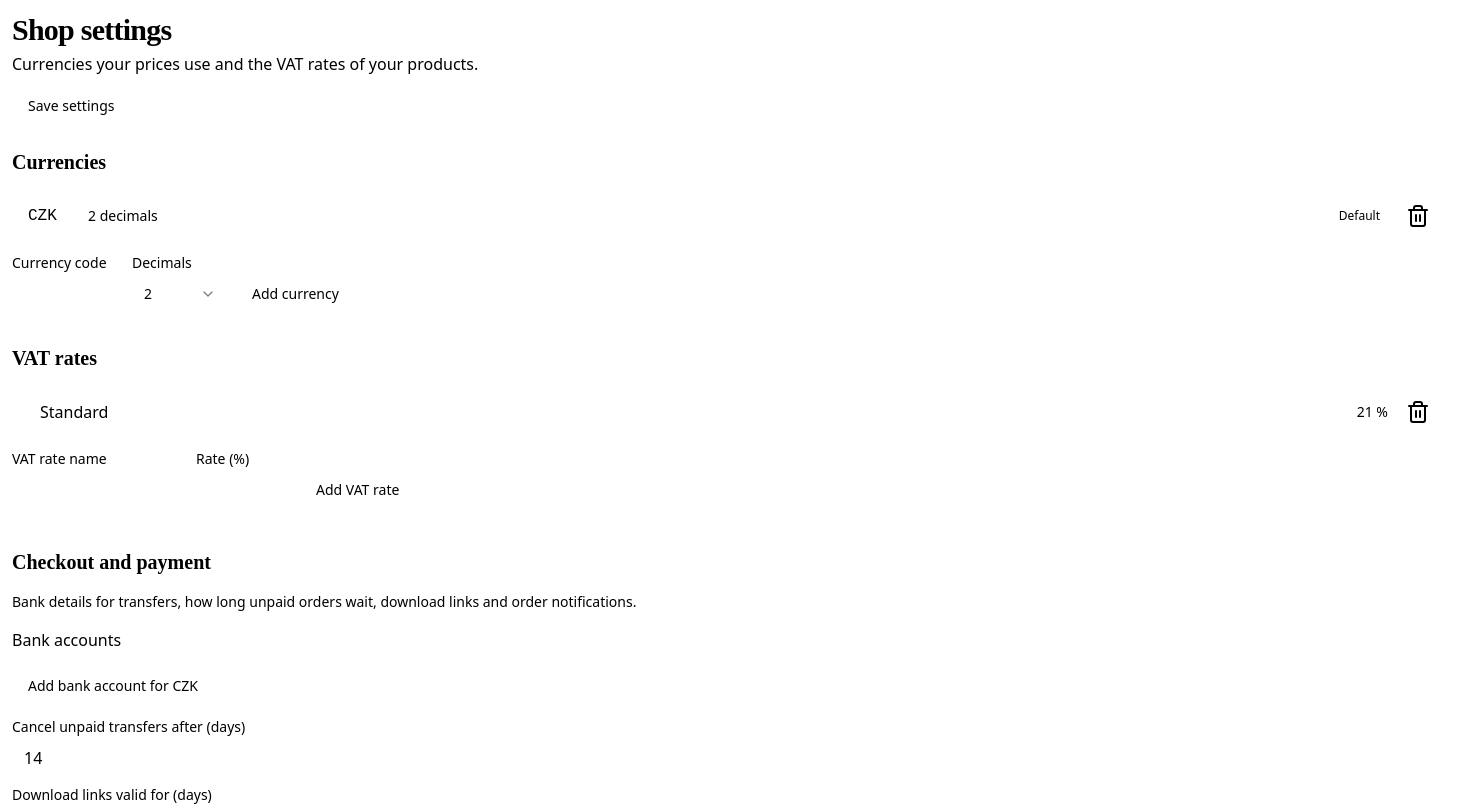
shows the server reason when a currency in use cannot be removed
Step 1. Click the button named "Remove CZK" → {"x": 1418, "y": 216}, box x1=1400 y1=198 x2=1436 y2=234
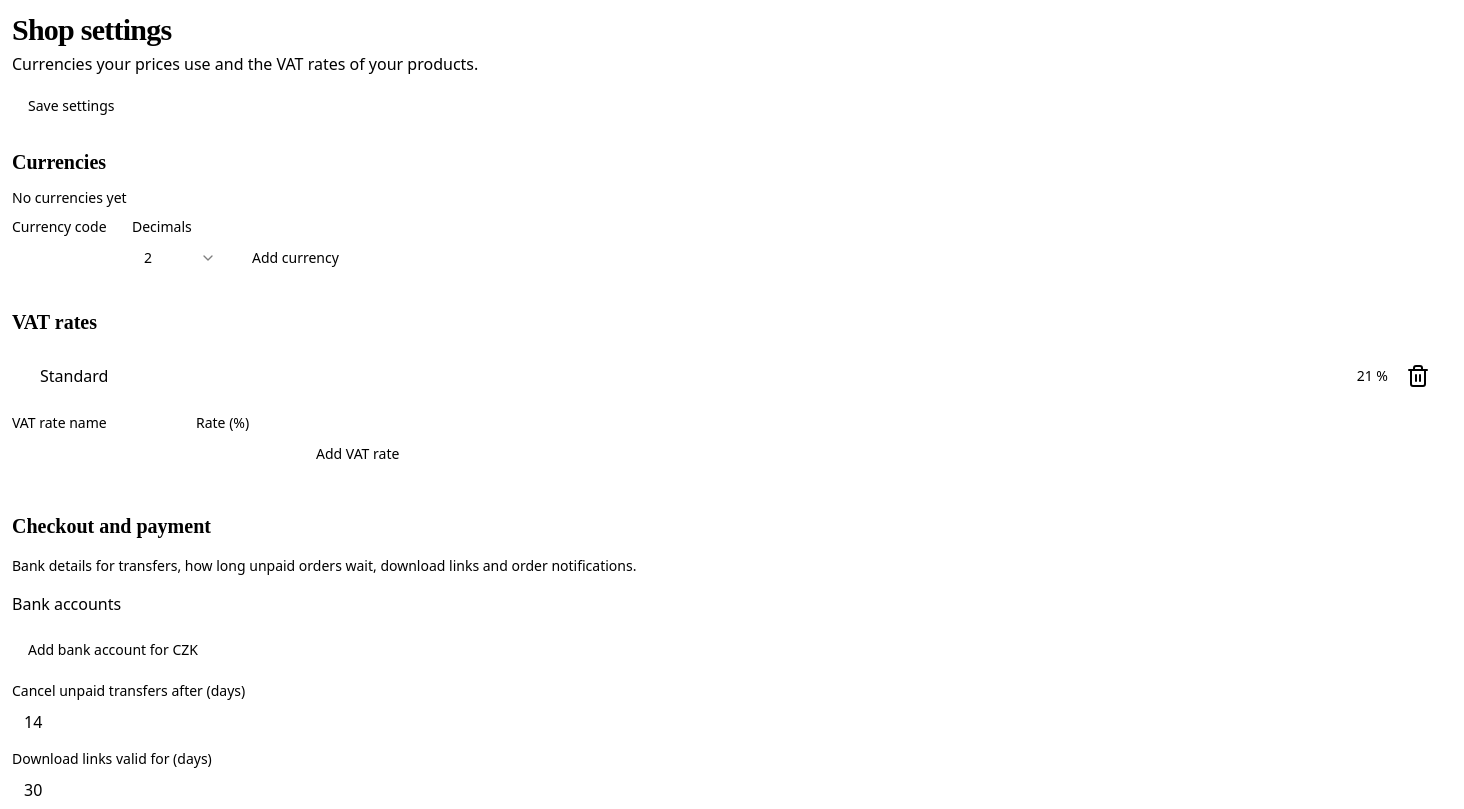
Step 2. Click the button "Save settings" → {"x": 71, "y": 106}, box x1=12 y1=88 x2=130 y2=124
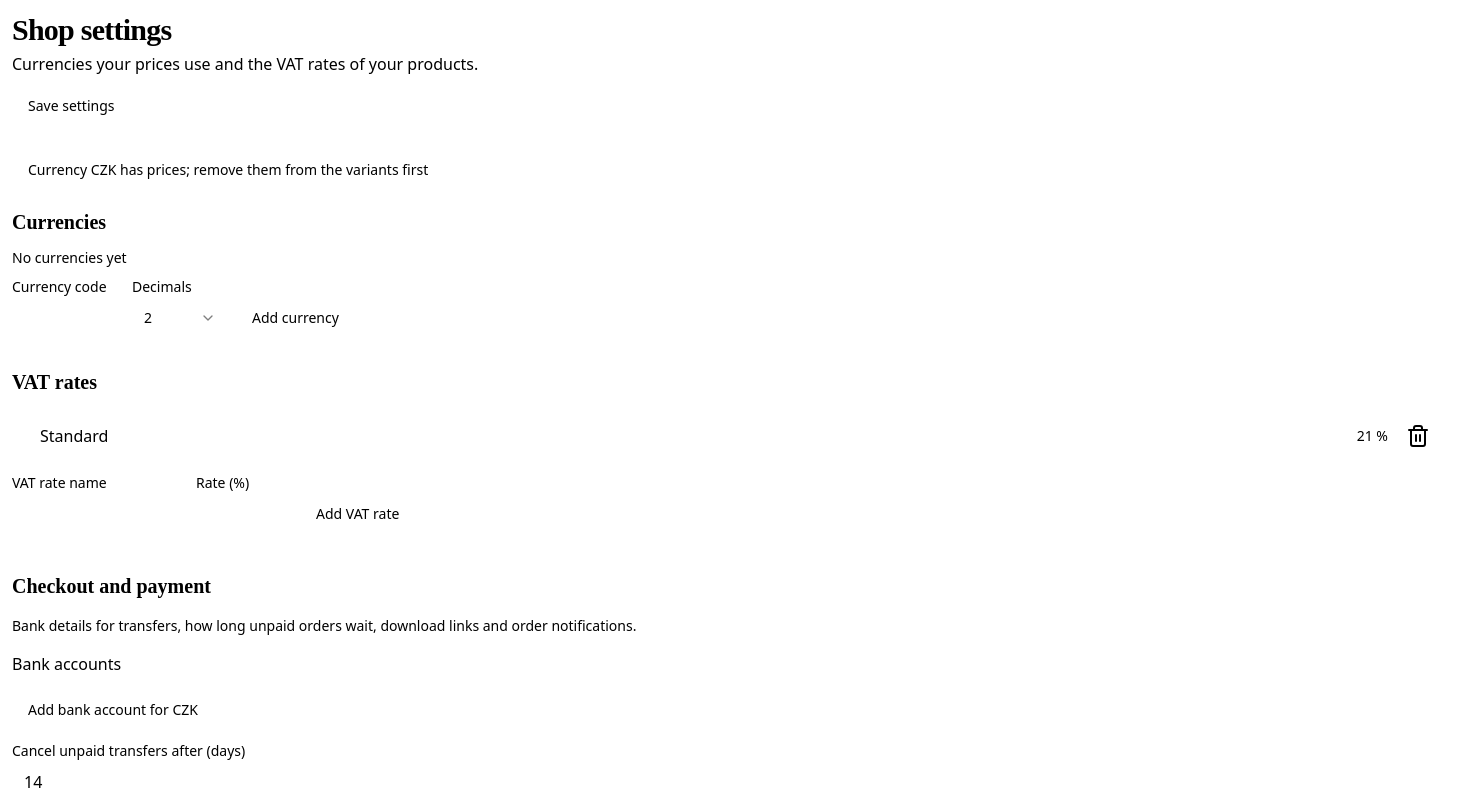
Result: the text "Currency CZK has prices; remove them from the variants first" is shown at x1=28 y1=160 x2=428 y2=179
